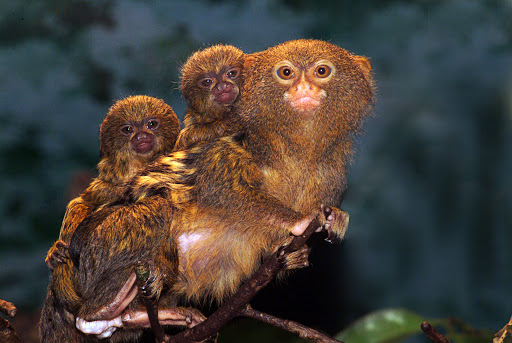PygmyMarmoset: (64, 46, 374, 329), (80, 96, 185, 187), (171, 46, 253, 132)
